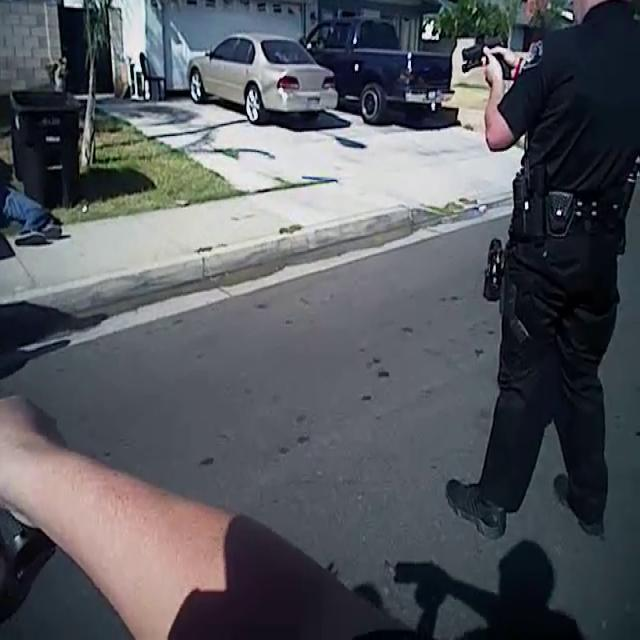gun: (453, 27, 521, 97)
